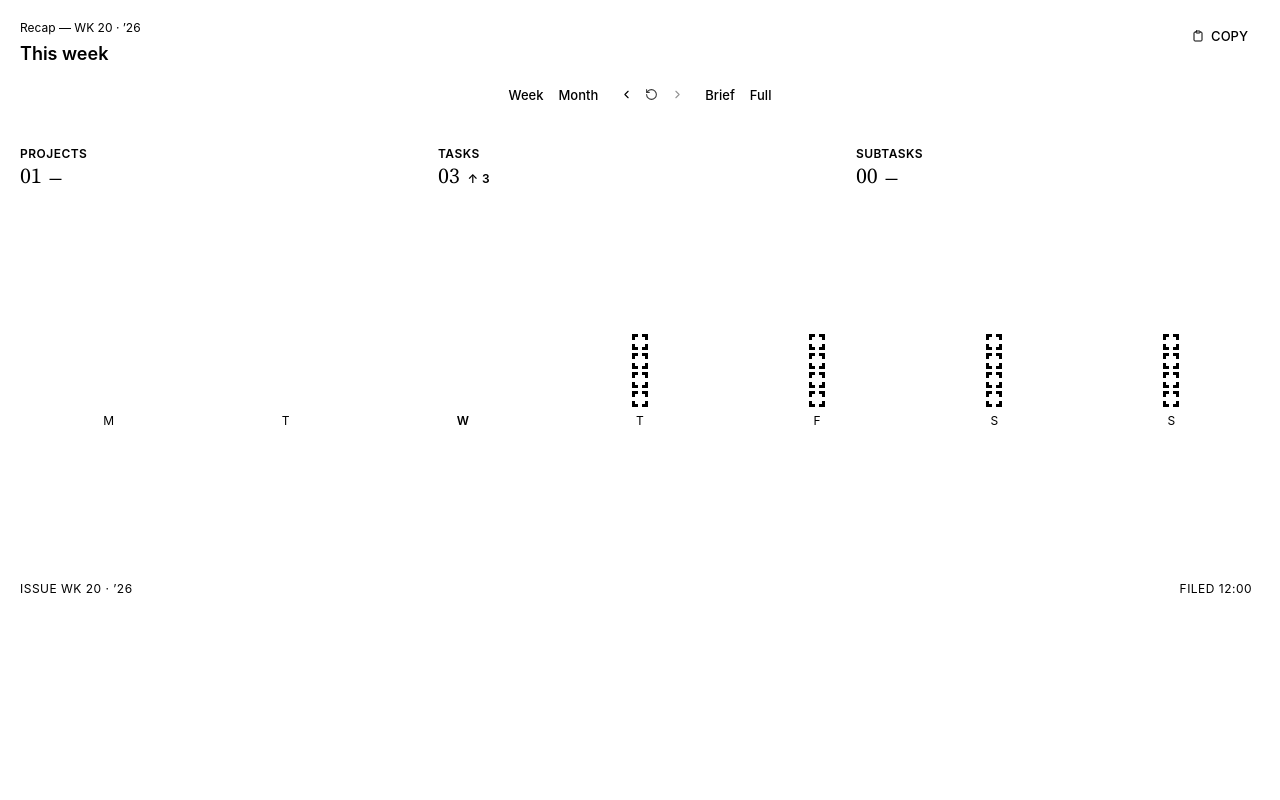
Scenario: TaskProgressSummaryCard › shows the week grid in the brief week view and the project list elsewhere
Expected: the text "Tuesday task" is not shown
Click the tab "Full": (761, 95) [743,84,778,106]
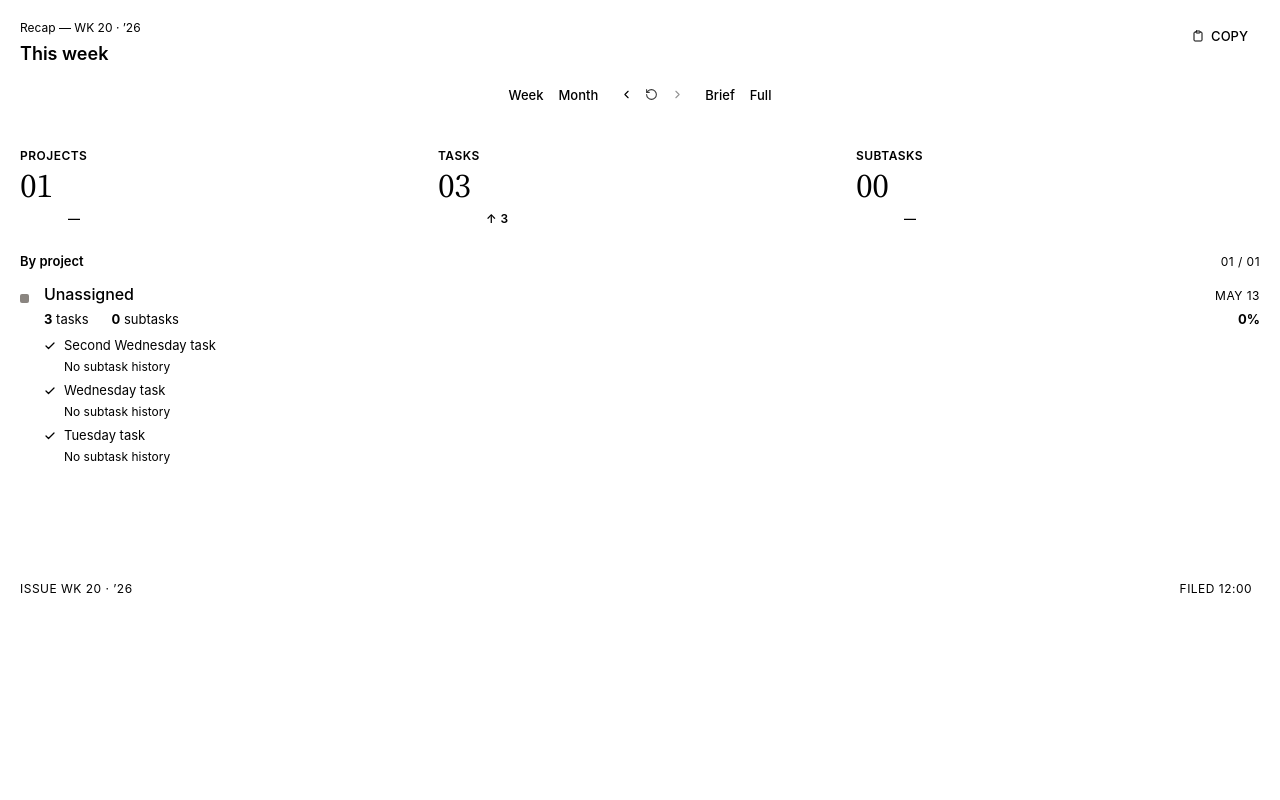
Result: the picture with class "recap-grid" is gone
Result: the text "Tuesday task" is shown at [64,426,145,442]
Click the tab "Brief": (720, 95) [698,84,742,106]
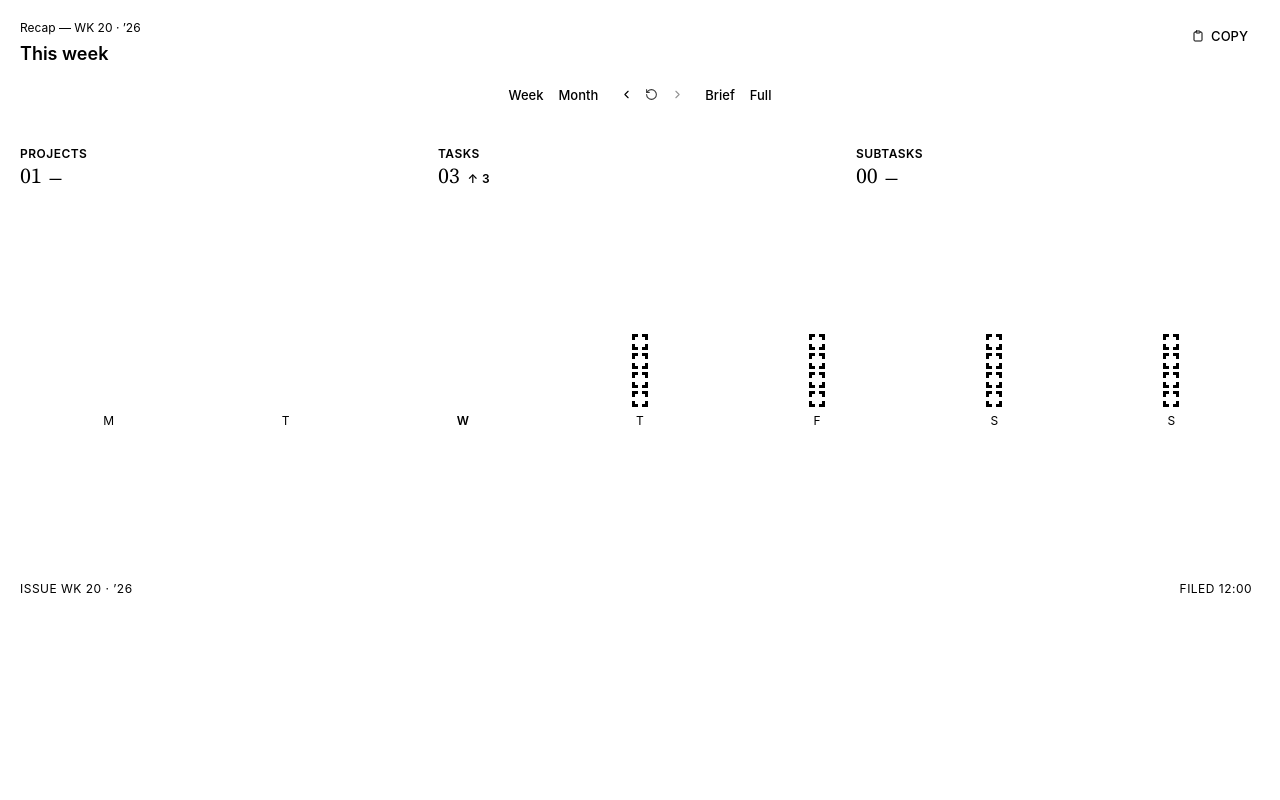
Click the tab "Month": (578, 95) [552,84,605,106]
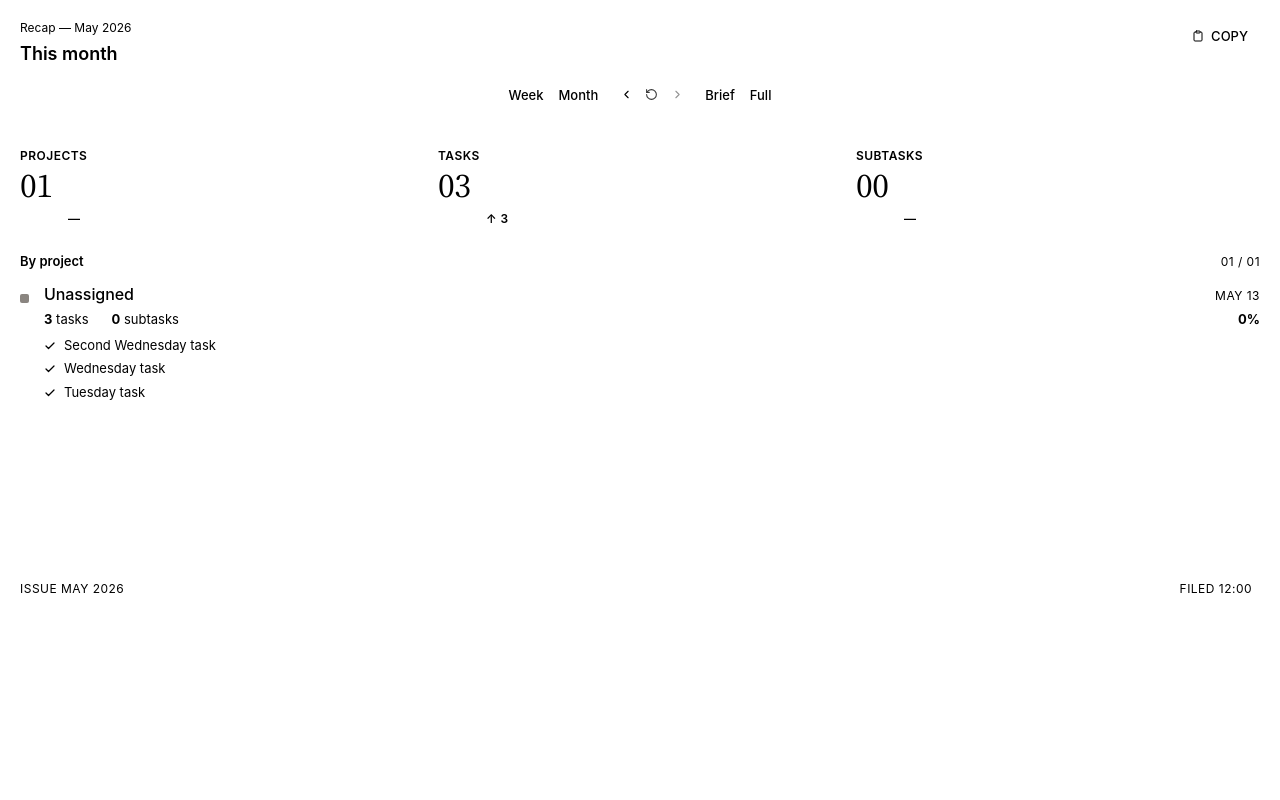
Result: the picture with class "recap-grid" is gone
